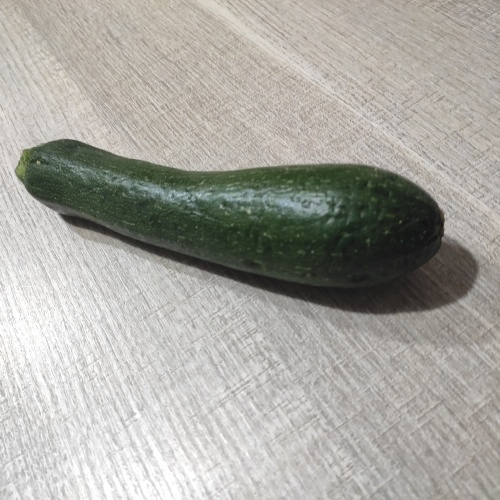zucchine: (15, 133, 446, 296)
